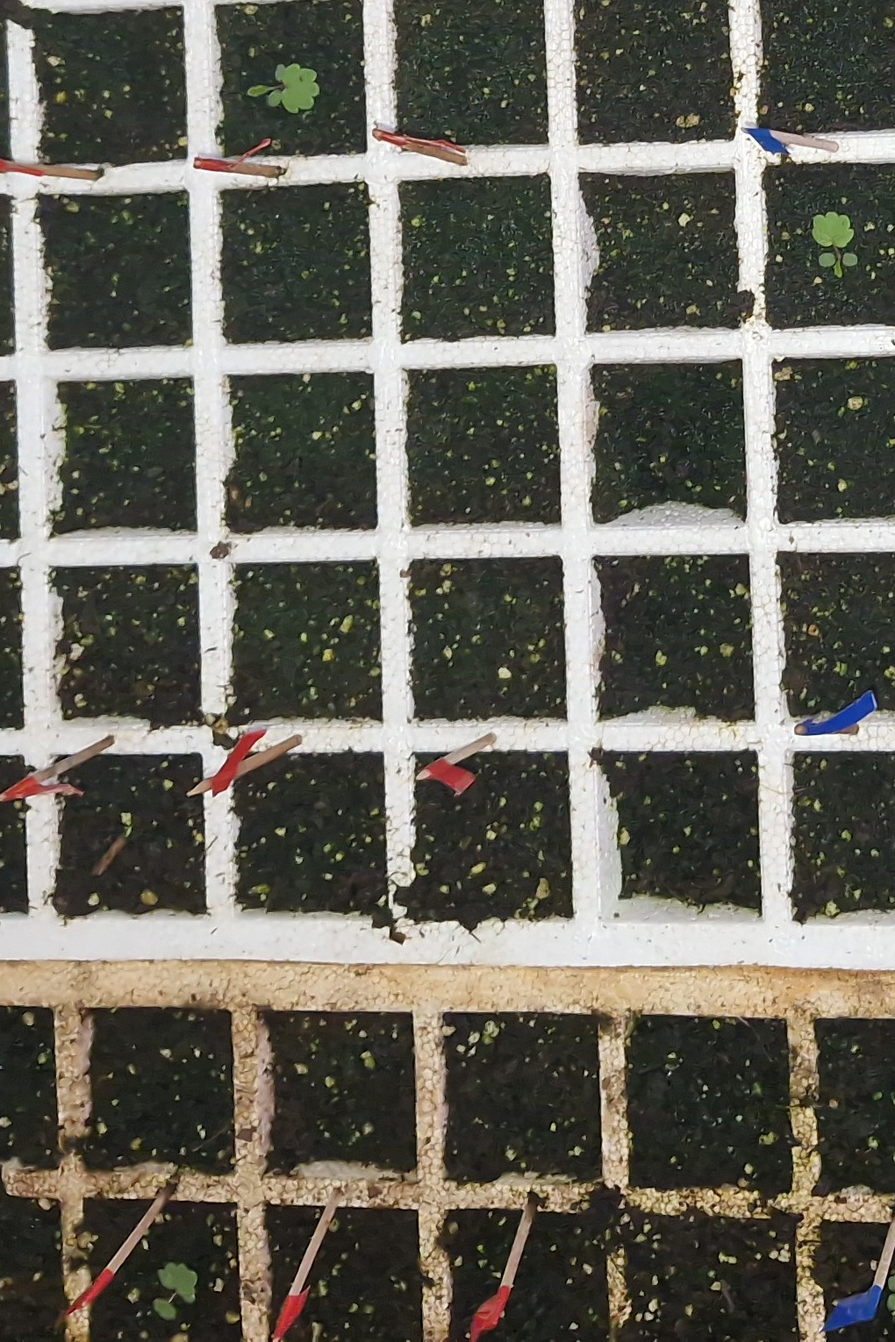Folha: (281, 64, 319, 113), (813, 212, 854, 247), (248, 85, 279, 97), (819, 253, 835, 267), (269, 89, 282, 106), (843, 254, 857, 267), (276, 64, 285, 82), (834, 261, 842, 278)
Germinacao: (247, 64, 319, 113), (812, 212, 857, 278)
